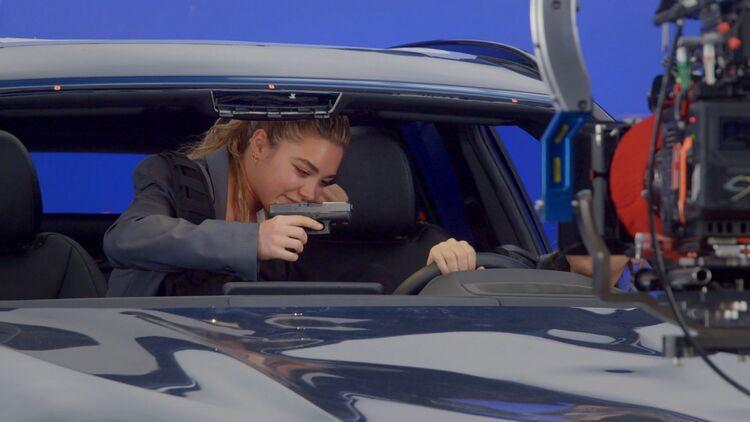gun: (266, 200, 354, 244)
